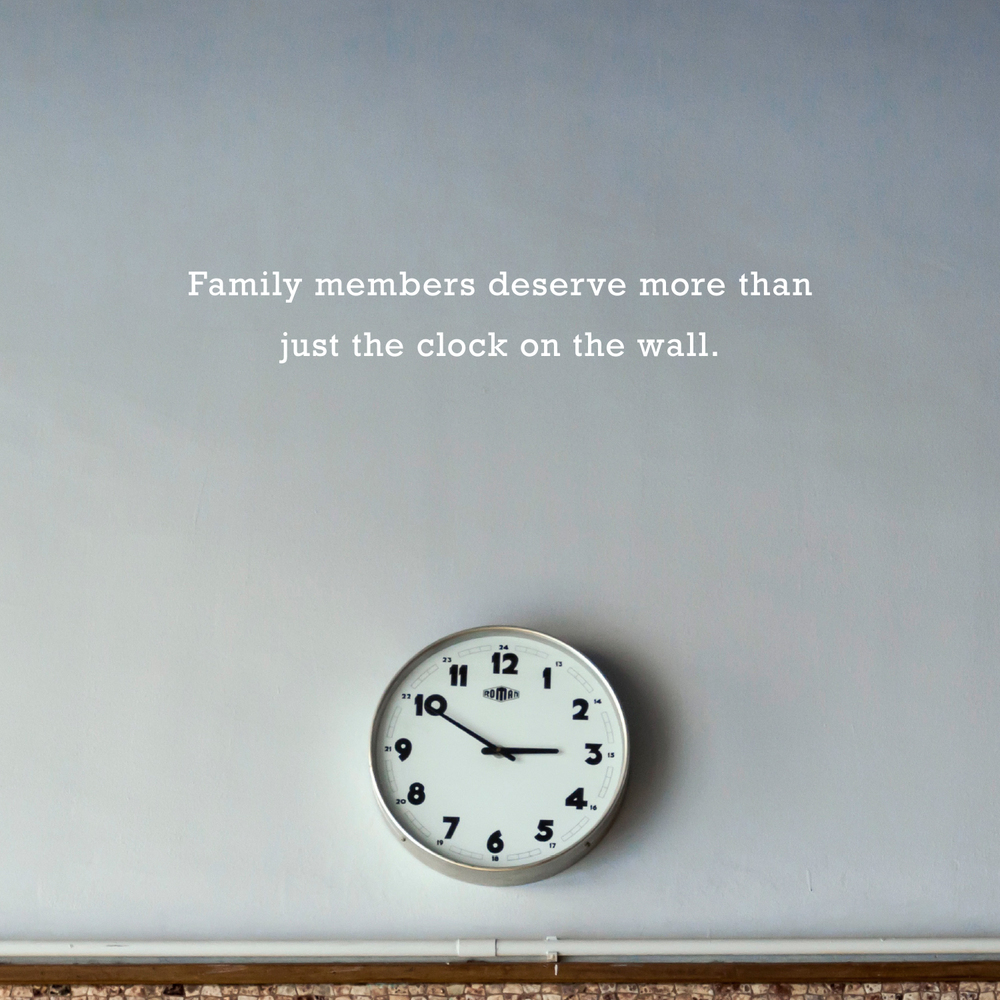clock: (374, 628, 627, 867)
